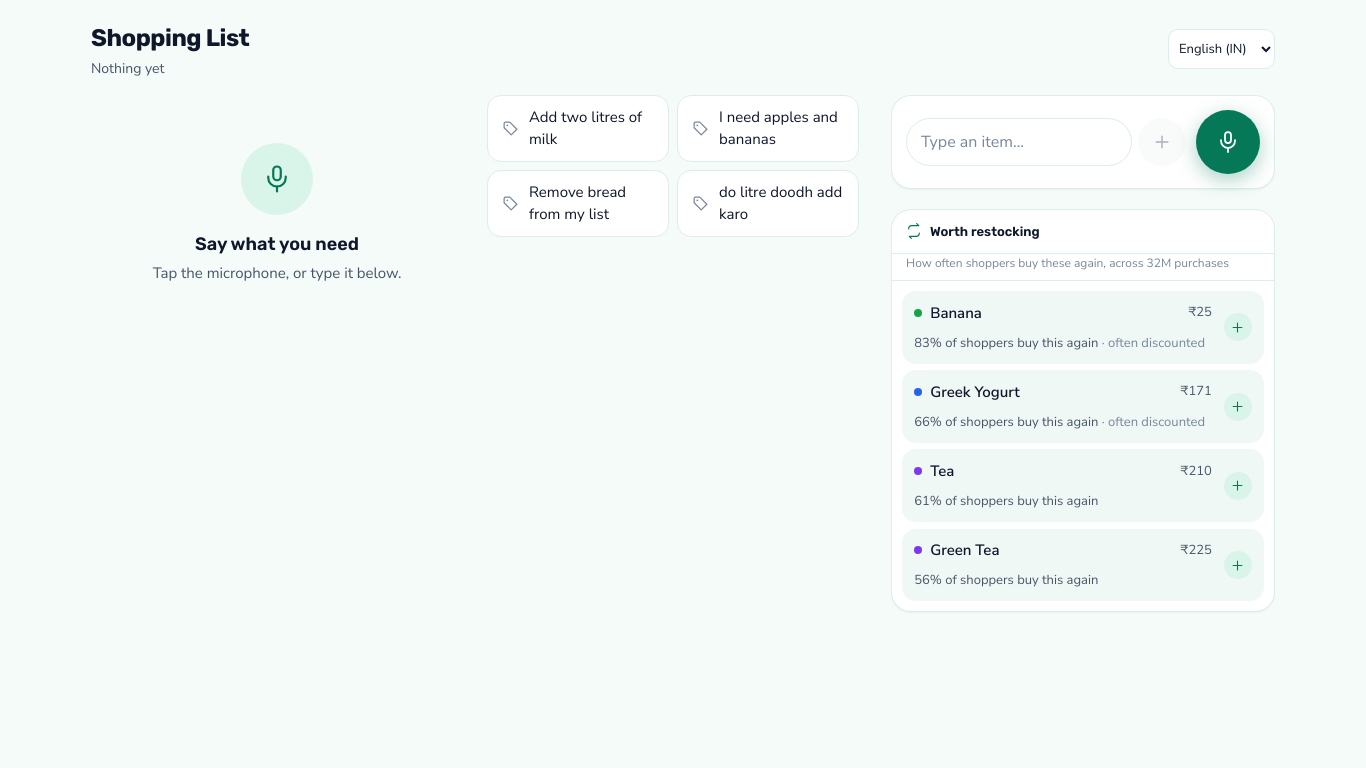
Test: voice input › merges a repeated item instead of showing it twice
This screenshot has width=1366, height=768.
Click the button named "Start listening".
click(1228, 142)  # box [1196,110,1260,174]
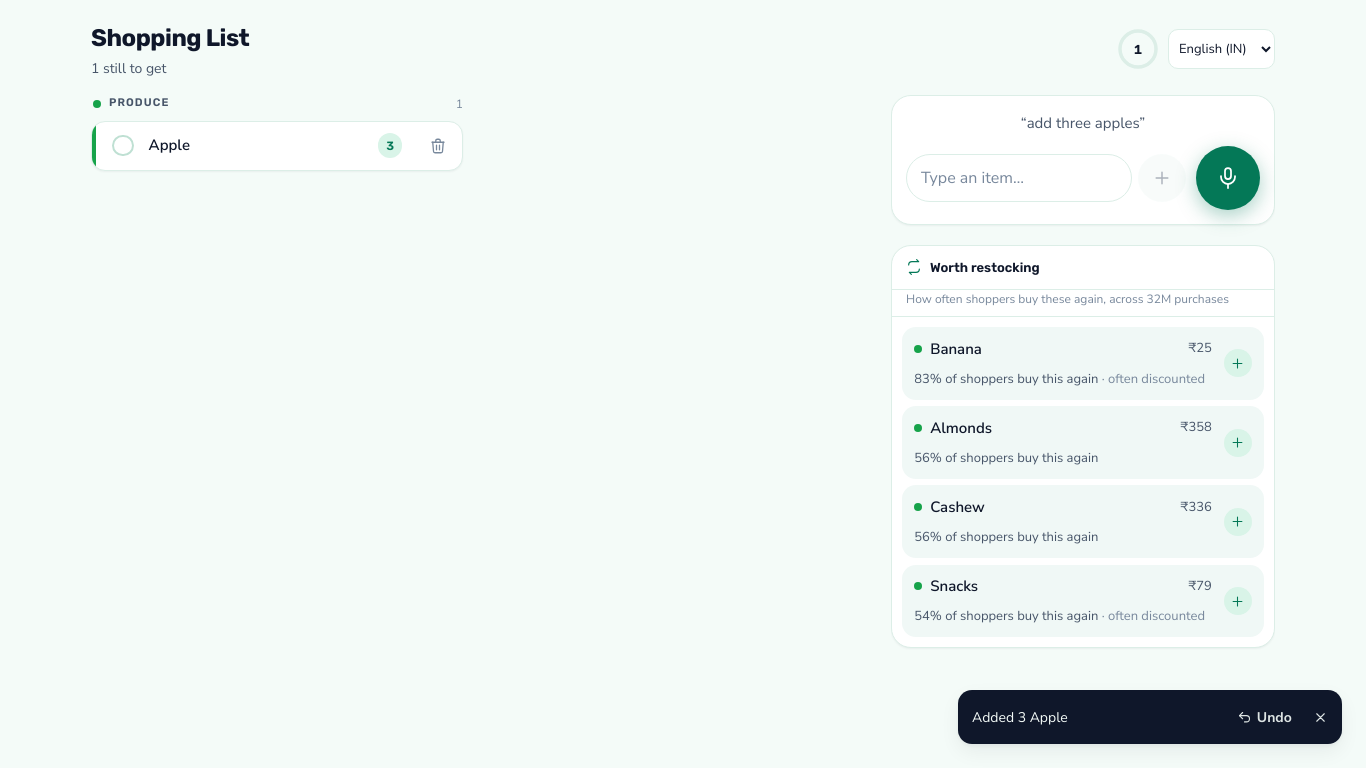
Click the button named "Start listening".
click(1228, 178)  # box [1196,146,1260,210]
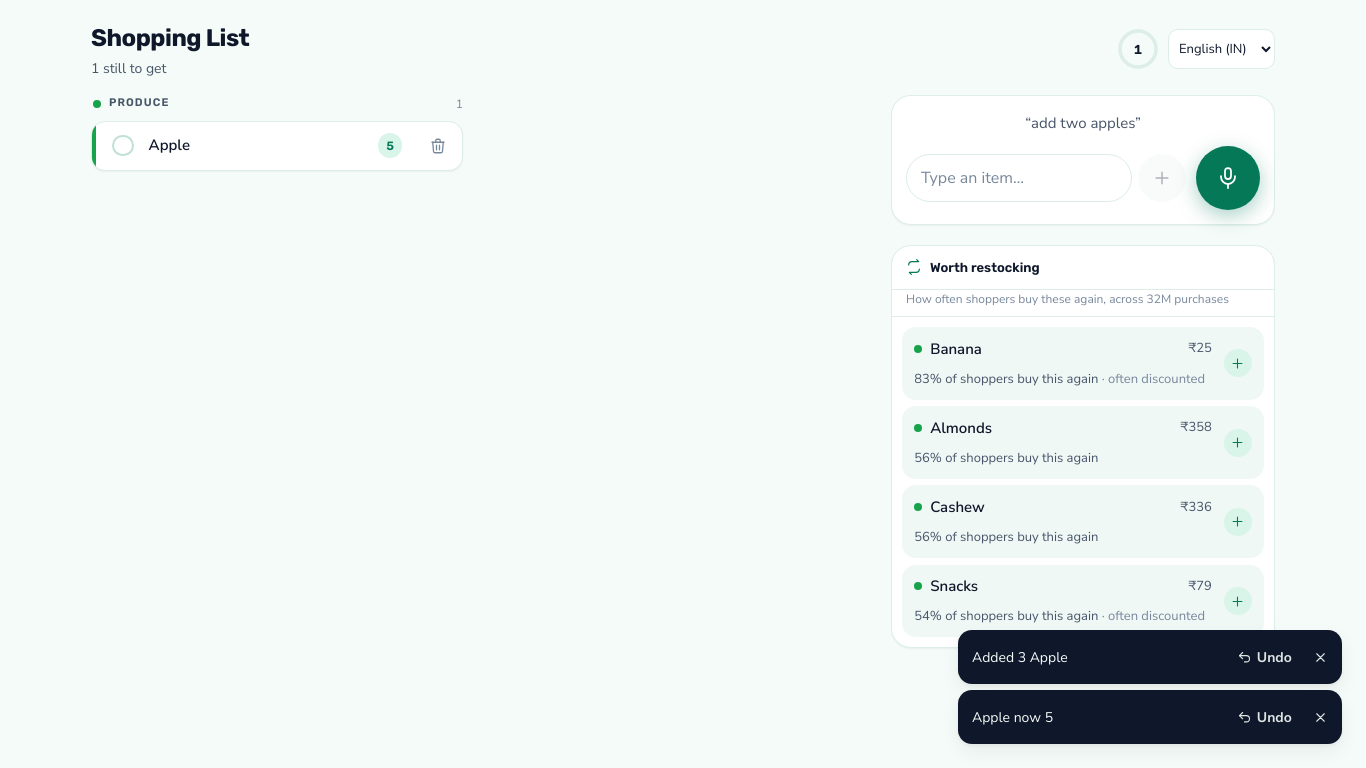
Result: the text "Apple" is shown once at [149,135,190,155]
Result: the text "5" is shown at [378,133,402,158]
